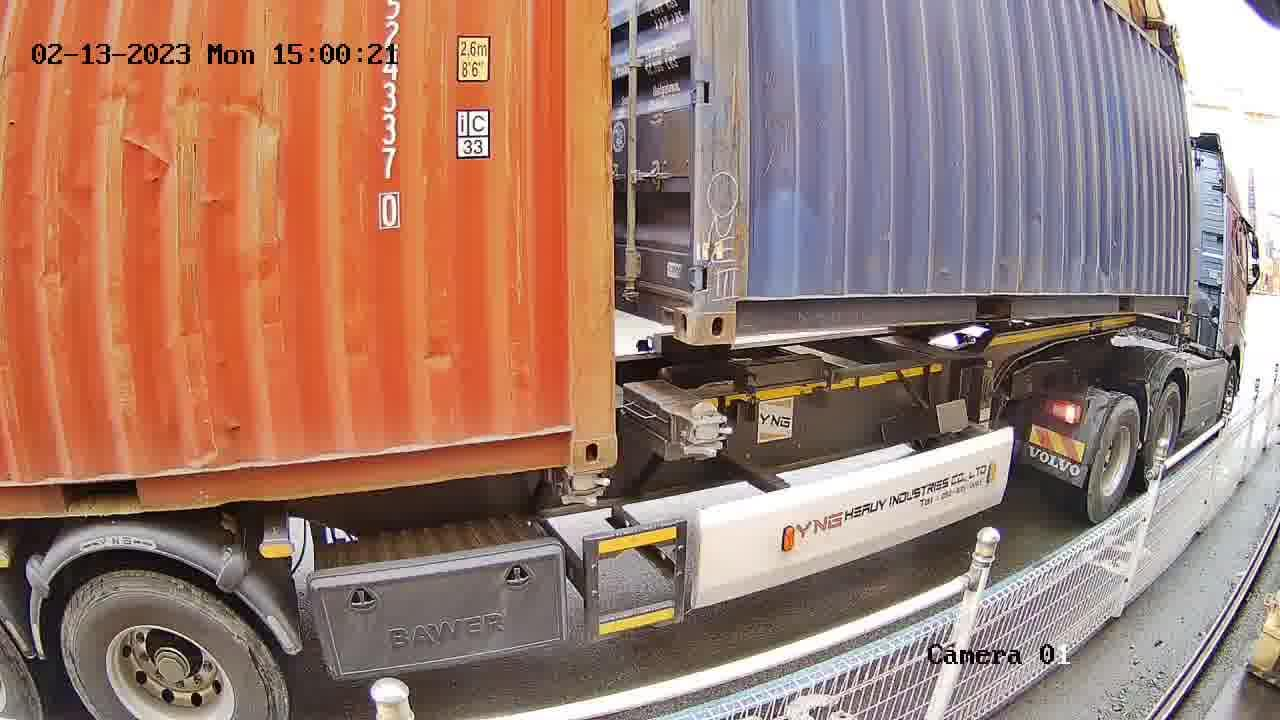Cone: (679, 401, 726, 458), (558, 469, 609, 508)
Hole_L: (692, 278, 776, 345)
Hole_R: (537, 393, 615, 469), (651, 280, 692, 345)
Tire: (59, 574, 287, 717), (1090, 398, 1140, 522), (1147, 386, 1179, 484)
